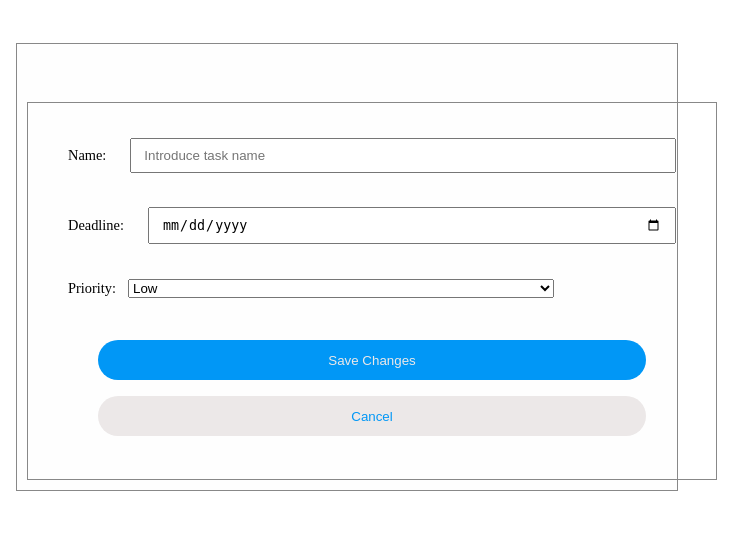
Scenario: AddNote › submits error, task text is blank'
In the date field labelled "Deadline:": [412, 226] box 148,207 -> 676,244, type "2024-09-30"
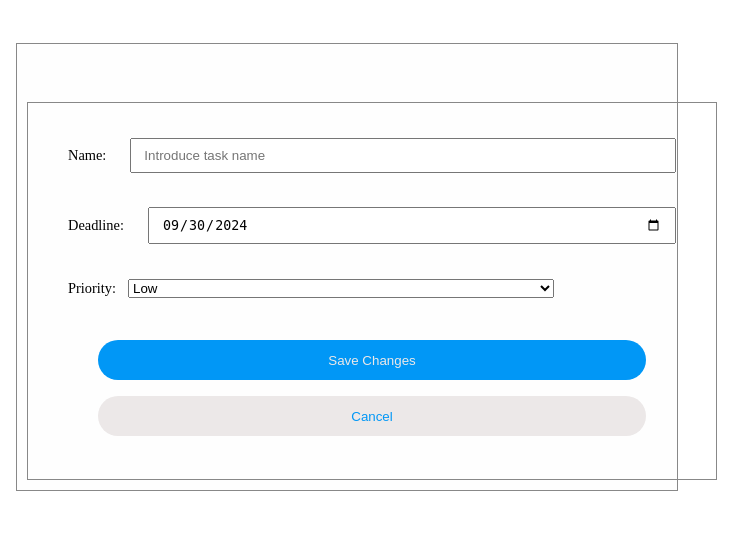
Select "High" in the dropdown labelled "Priority:": [341, 288] box 128,279 -> 554,298
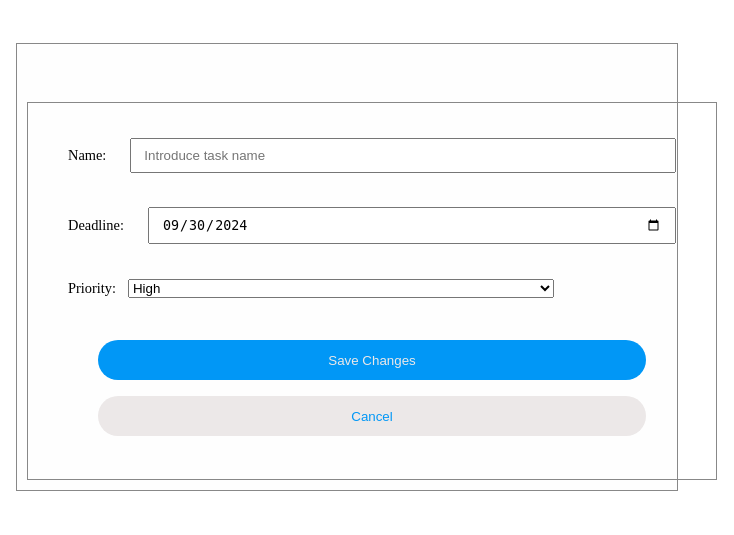
Click the button "Save Changes": [372, 360] box 98,340 -> 646,380
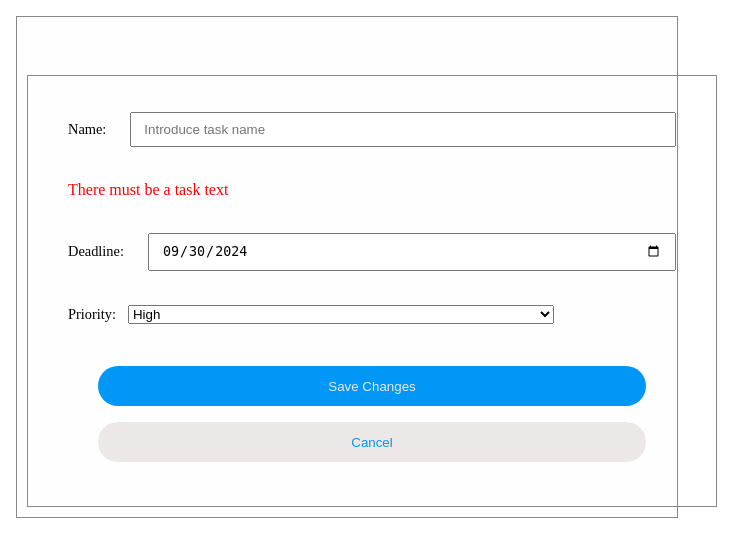
Result: the text "There must be a task text" is shown at 68,181 -> 228,198
